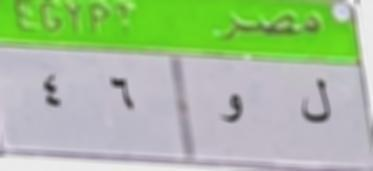4: (40, 68, 66, 112)
6: (108, 73, 136, 113)
laam: (297, 74, 334, 131)
waw: (214, 88, 249, 130)
